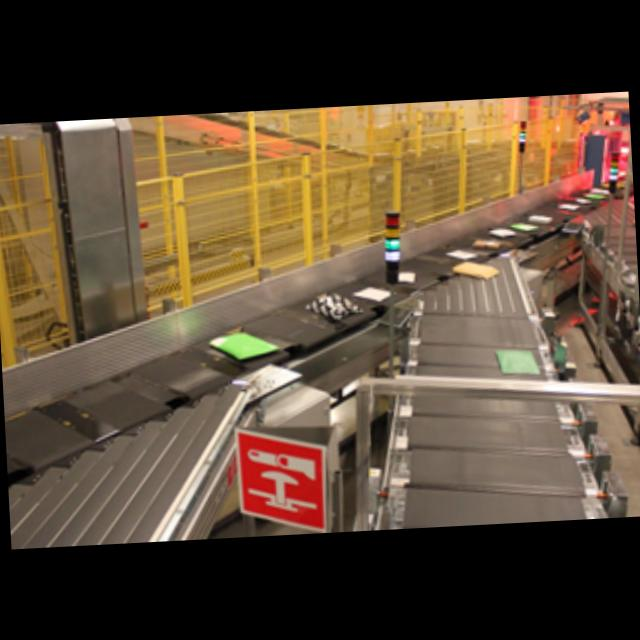mailer: (210, 330, 274, 362), (308, 292, 356, 323), (495, 346, 540, 375), (453, 261, 498, 279), (354, 285, 391, 303), (489, 226, 514, 239), (448, 248, 474, 260), (472, 238, 500, 248), (512, 220, 538, 230), (528, 214, 552, 223), (398, 272, 414, 284)
